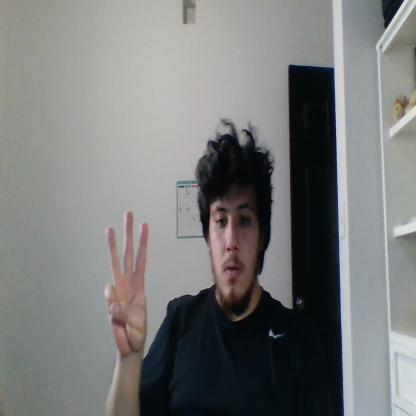W: (104, 211, 149, 353)
